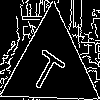T: (26, 40, 70, 96)
